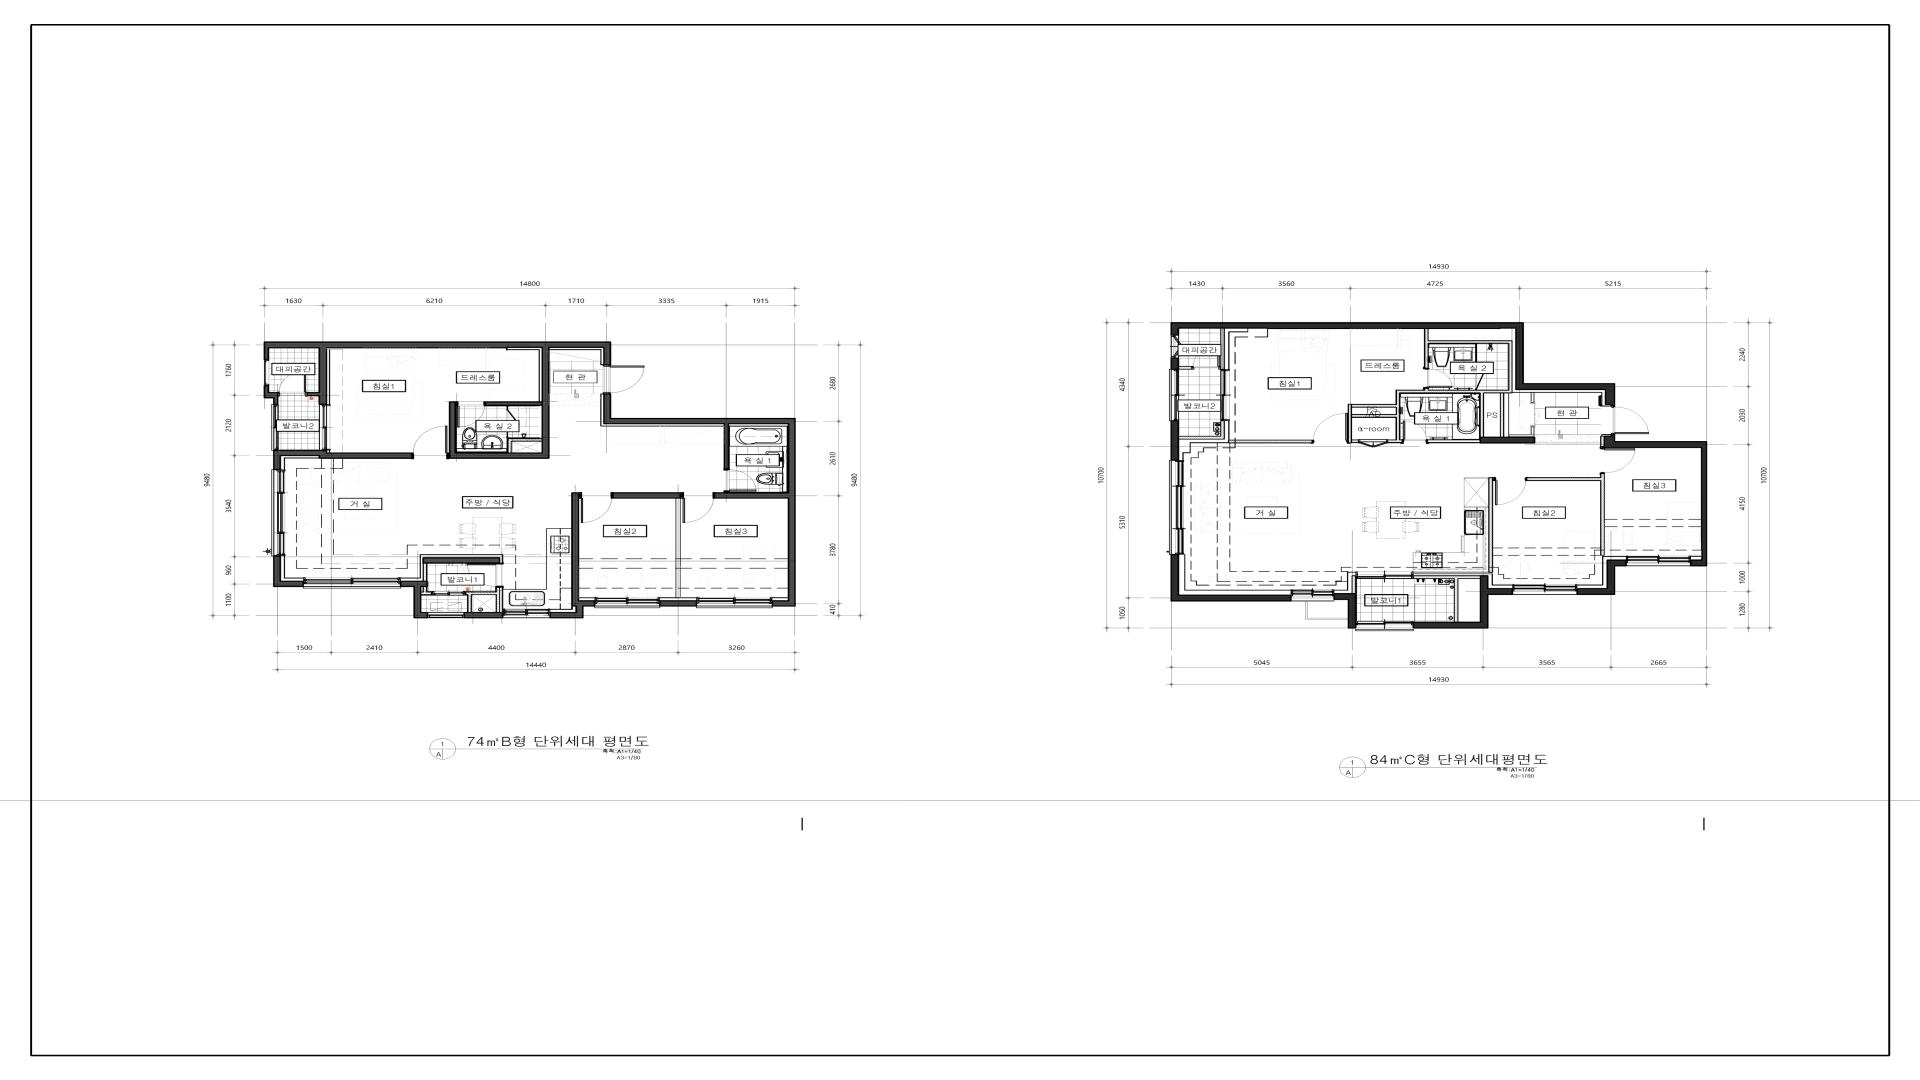door: (413, 423, 450, 459), (603, 365, 646, 393), (680, 492, 716, 524), (579, 492, 613, 524), (1611, 406, 1650, 434), (1312, 413, 1346, 443), (1493, 477, 1527, 505), (1600, 447, 1635, 473), (465, 564, 502, 587), (724, 469, 757, 492), (458, 401, 484, 427), (1423, 368, 1452, 390), (280, 372, 306, 396), (1403, 421, 1427, 444), (1358, 439, 1387, 448), (506, 406, 520, 423), (1474, 375, 1487, 390)
wall: (603, 394, 795, 607), (264, 342, 611, 459), (1171, 322, 1615, 405), (1346, 328, 1513, 443), (1428, 328, 1611, 406), (1605, 434, 1708, 567), (1527, 473, 1605, 555), (550, 492, 595, 618), (1171, 555, 1292, 601), (1414, 575, 1513, 629), (1179, 555, 1291, 595), (600, 394, 723, 427), (659, 498, 698, 601), (1414, 576, 1480, 621), (401, 554, 504, 582), (273, 450, 411, 469), (1179, 421, 1229, 460), (506, 348, 542, 402), (1576, 559, 1627, 595), (1577, 556, 1626, 588), (1414, 574, 1513, 588), (1505, 393, 1535, 436), (401, 582, 429, 618), (273, 556, 303, 587), (1225, 328, 1247, 369), (550, 348, 603, 365), (465, 587, 500, 612), (1179, 421, 1225, 439), (1333, 593, 1356, 628), (281, 556, 303, 580), (281, 456, 319, 469), (423, 558, 500, 564), (1335, 572, 1356, 593), (613, 492, 680, 498), (1489, 477, 1493, 572), (1480, 436, 1535, 443), (1171, 421, 1179, 460), (463, 612, 504, 618), (264, 385, 278, 404), (1229, 440, 1312, 443), (1428, 439, 1480, 443), (659, 601, 696, 607), (1221, 328, 1225, 369), (550, 607, 576, 612), (422, 587, 433, 596), (1171, 357, 1179, 369), (423, 563, 427, 582), (1353, 576, 1357, 593), (500, 587, 502, 612), (1691, 555, 1701, 559), (580, 597, 595, 600), (773, 597, 787, 600), (1179, 367, 1192, 369), (1601, 436, 1604, 447), (1601, 434, 1611, 436)
window: (1168, 460, 1184, 555), (272, 469, 285, 555), (303, 578, 401, 588), (698, 597, 773, 608), (595, 597, 659, 608), (1627, 556, 1691, 567), (1513, 584, 1576, 595), (1356, 621, 1412, 632), (318, 405, 331, 450), (1168, 369, 1179, 421), (1291, 589, 1333, 601), (504, 609, 550, 618), (1221, 369, 1229, 421), (1357, 572, 1412, 579), (272, 404, 278, 450), (429, 612, 463, 618), (1171, 335, 1179, 357), (433, 591, 465, 596), (264, 360, 269, 385)
